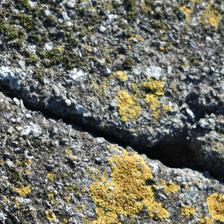Crack: (3, 38, 218, 149)
